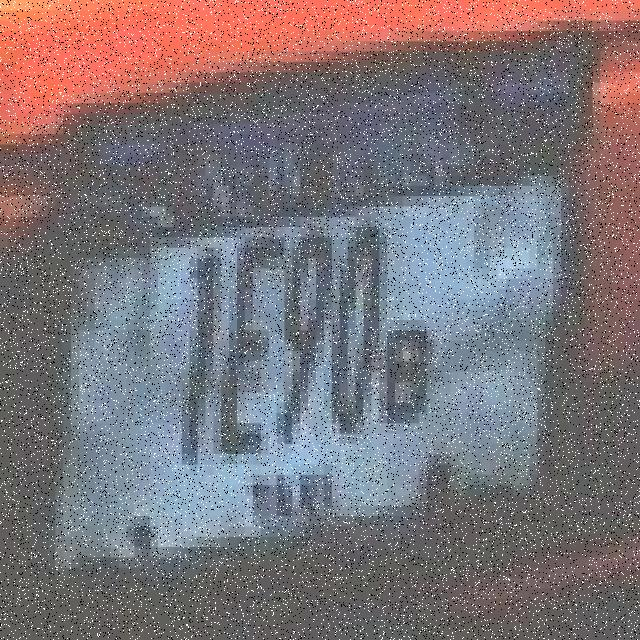licenseplate: (47, 95, 594, 571)
